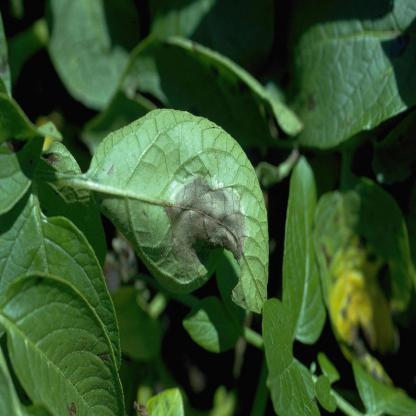Potato leaf: (5, 267, 124, 415)
Potato leaf early blight: (96, 105, 274, 323)
